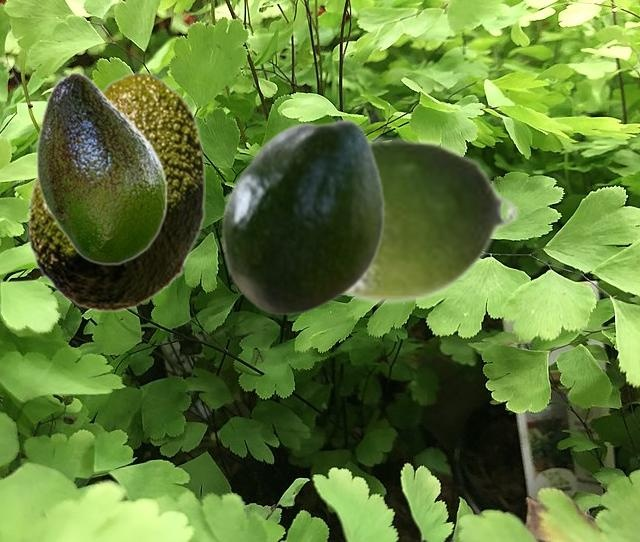avocado: (27, 71, 204, 312), (220, 117, 384, 315), (338, 133, 519, 306), (36, 71, 167, 264)
